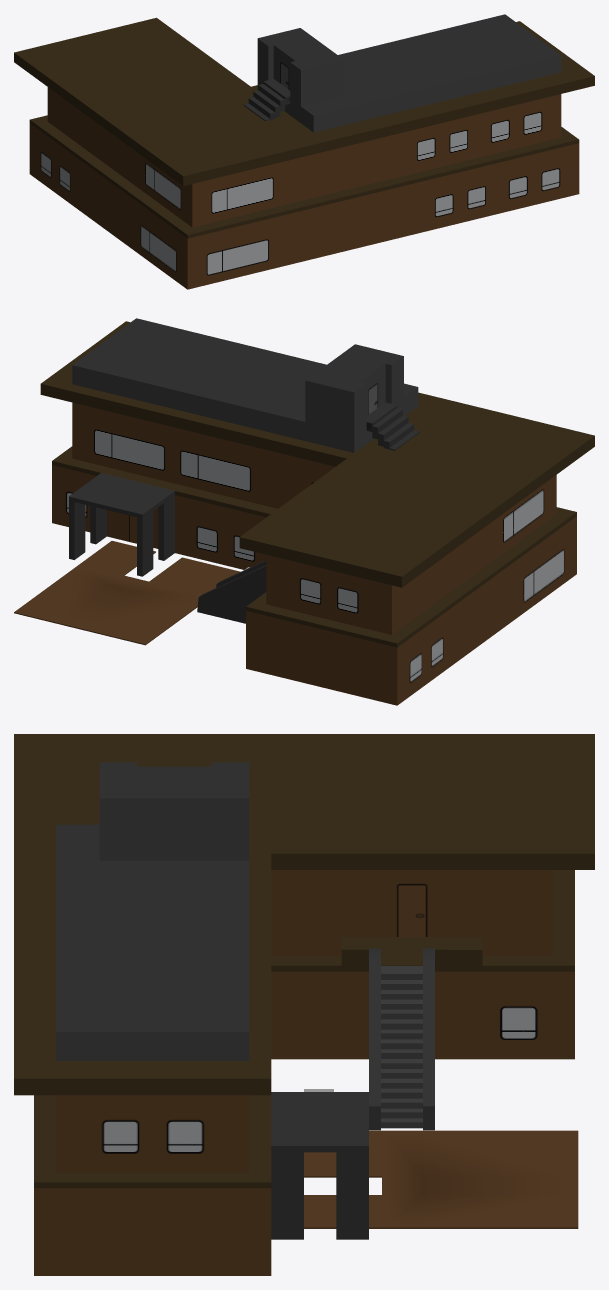
Rendered from escuelacafe.fbx.
The picture shows the model from 3 angles, top to bottom: view 1: azimuth 30°, elevation 25°; view 2: azimuth 150°, elevation 25°; view 3: azimuth 270°, elevation 25°; orthographic projection. The views are drawn at different scales.
Parts seen in each view (by area): view 1: motel; view 2: motel; view 3: motel.
Part boxes in pixels (x1=…): motel: x1=14, y1=14, x2=594, y2=289; motel: x1=14, y1=318, x2=594, y2=705; motel: x1=14, y1=734, x2=594, y2=1275.
Bounding box in the file's own units: 473 × 194 × 337.
Materials: 1 (1 with a texture image).
